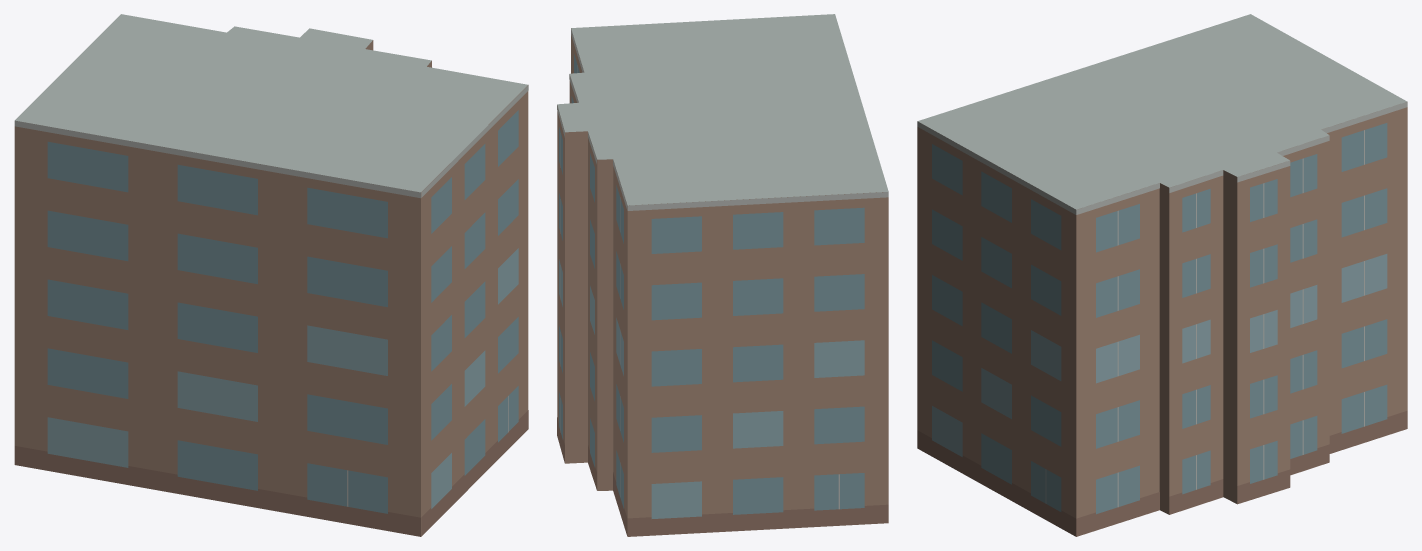
The model's file is survey-upis-32706831.glb.
The picture shows the model from 3 angles, left to right: view 1: azimuth 30°, elevation 25°; view 2: azimuth 150°, elevation 25°; view 3: azimuth 270°, elevation 25°; orthographic projection. The views are drawn at different scales.
Parts seen in each view (by area): view 1: survey-upis-32706831.tmp; view 2: survey-upis-32706831.tmp; view 3: survey-upis-32706831.tmp.
Part boxes in pixels (box(x1,y1,x2,y2)): survey-upis-32706831.tmp: box(14, 14, 528, 536); survey-upis-32706831.tmp: box(557, 14, 888, 536); survey-upis-32706831.tmp: box(917, 14, 1407, 536).
Bounding box in the file's own units: 18.6 × 14.5 × 19.69.
